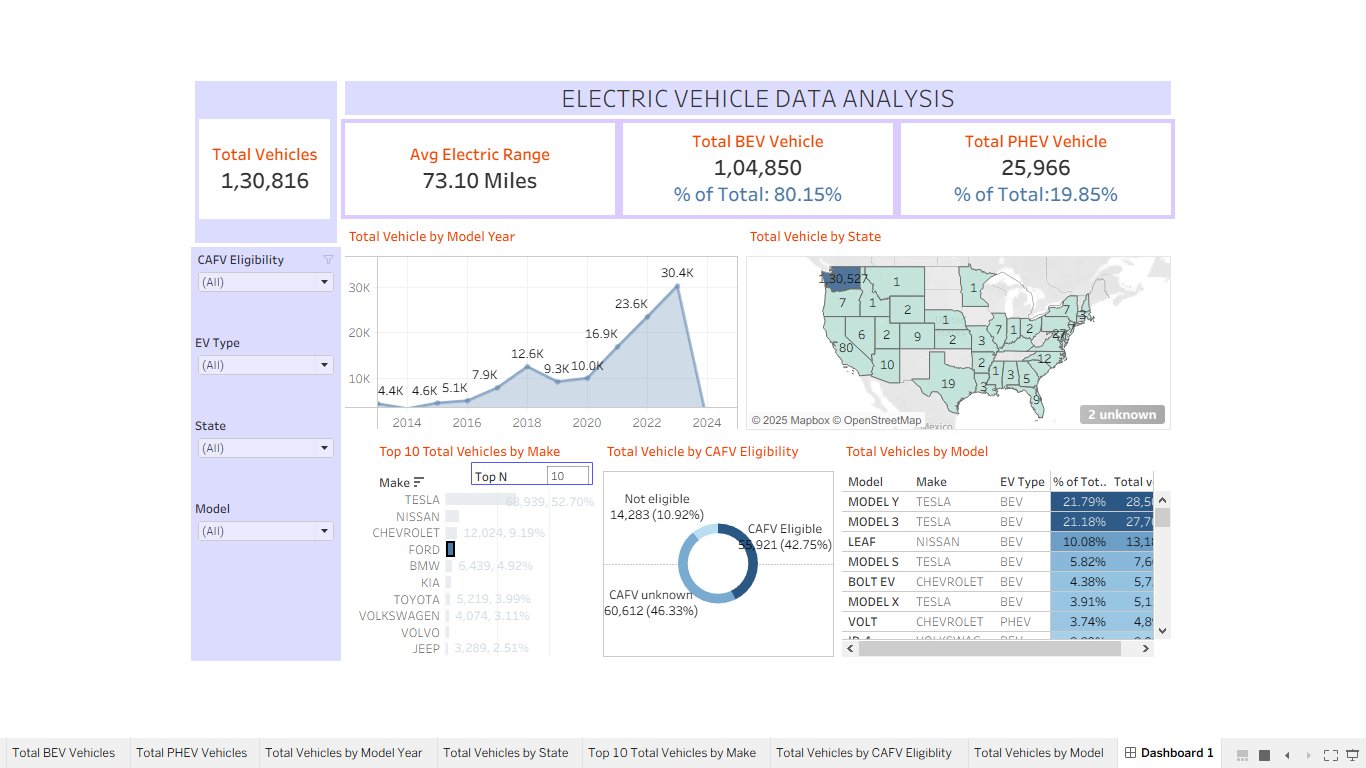

What the dashboard file says about the page in this screenshot:
{"tool":"tableau","page":{"name":"Dashboard 1","canvas":[1000,600],"ordinal":0},"visuals":[{"type":"blank","box":[8,8,150,170]},{"type":"title","box":[158,8,834,42]},{"type":"worksheet","title":"Total vehicles","mark":"Automatic","box":[16,50,131,100]},{"type":"worksheet","title":"Avg Electric Range","mark":"Automatic","box":[158,50,278,100]},{"type":"worksheet","title":"Total BEV Vehicles ","mark":"Automatic","box":[436,50,278,100]},{"type":"worksheet","title":"Total PHEV Vehicles","mark":"Automatic","box":[714,50,278,100]},{"type":"worksheet","title":"Total Vehicles by Model Year","mark":"Area","rows":["Calculation_0176762912473088","Calculation_0176762912473088"],"cols":["Model Year"],"box":[158,150,401,215]},{"type":"worksheet","title":"Total Vehicles by State","mark":"Multipolygon","box":[559,150,433,215]},{"type":"filter","title":"Total Vehicles by Model Year","param":"[federated.0oigpqj1t7se8y17l5w80157g0qz].[Action (Clean Alternative Fuel Vehicle","box":[8,178,150,83]},{"type":"filter","title":"Total Vehicles by Model Year","param":"[federated.0oigpqj1t7se8y17l5w80157g0qz].[none:Electric Vehicle Type:nk]","box":[8,261,150,83]},{"type":"filter","title":"Total Vehicles by Model Year","param":"[federated.0oigpqj1t7se8y17l5w80157g0qz].[none:State:nk]","box":[8,344,150,83]},{"type":"worksheet","title":"Top 10 Total Vehicles by Make","mark":"Bar","rows":["Make"],"cols":["Calculation_0176762912473088"],"box":[158,365,258,227]},{"type":"worksheet","title":"Total Vehicles by CAFV Eligiblity","mark":"Pie","rows":["Calculation_0176762946252810","Calculation_0176762946252810"],"box":[416,365,239,227]},{"type":"worksheet","title":"Total Vehicles by Model","mark":"Square","rows":["Model","Make","Electric Vehicle Type"],"box":[655,365,337,227]},{"type":"parameter","param":"[Parameters].[Parameter 1]","box":[288,393,122,23]},{"type":"filter","title":"Top 10 Total Vehicles by Make","param":"[federated.0oigpqj1t7se8y17l5w80157g0qz].[none:Model:nk]","box":[8,427,150,83]},{"type":"blank","box":[8,510,150,82]}]}

Visuals, with their boxes on the page's 1000x600 design canvas (x1, y1, x2, y2). These are canvas units, not pixel positions in the 1366x768 screenshot, which may show the page scaled, cropped or inside an application window:
blank: detection(8, 8, 158, 178)
title: detection(158, 8, 992, 50)
"Total vehicles" worksheet: detection(16, 50, 147, 150)
"Avg Electric Range" worksheet: detection(158, 50, 436, 150)
"Total BEV Vehicles " worksheet: detection(436, 50, 714, 150)
"Total PHEV Vehicles" worksheet: detection(714, 50, 992, 150)
"Total Vehicles by Model Year" worksheet (Area marks): detection(158, 150, 559, 365)
"Total Vehicles by State" worksheet (Multipolygon marks): detection(559, 150, 992, 365)
"Total Vehicles by Model Year" filter: detection(8, 178, 158, 261)
"Total Vehicles by Model Year" filter: detection(8, 261, 158, 344)
"Total Vehicles by Model Year" filter: detection(8, 344, 158, 427)
"Top 10 Total Vehicles by Make" worksheet (Bar marks): detection(158, 365, 416, 592)
"Total Vehicles by CAFV Eligiblity" worksheet (Pie marks): detection(416, 365, 655, 592)
"Total Vehicles by Model" worksheet (Square marks): detection(655, 365, 992, 592)
parameter: detection(288, 393, 410, 416)
"Top 10 Total Vehicles by Make" filter: detection(8, 427, 158, 510)
blank: detection(8, 510, 158, 592)
